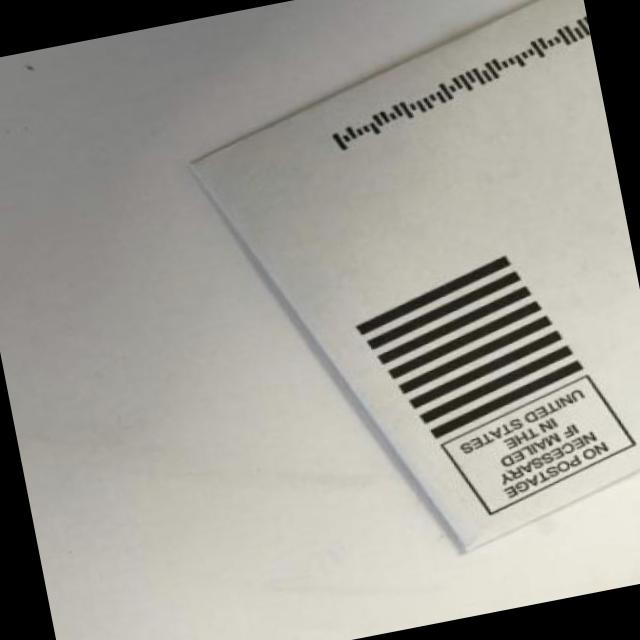cardboard paper: (191, 0, 640, 552)
